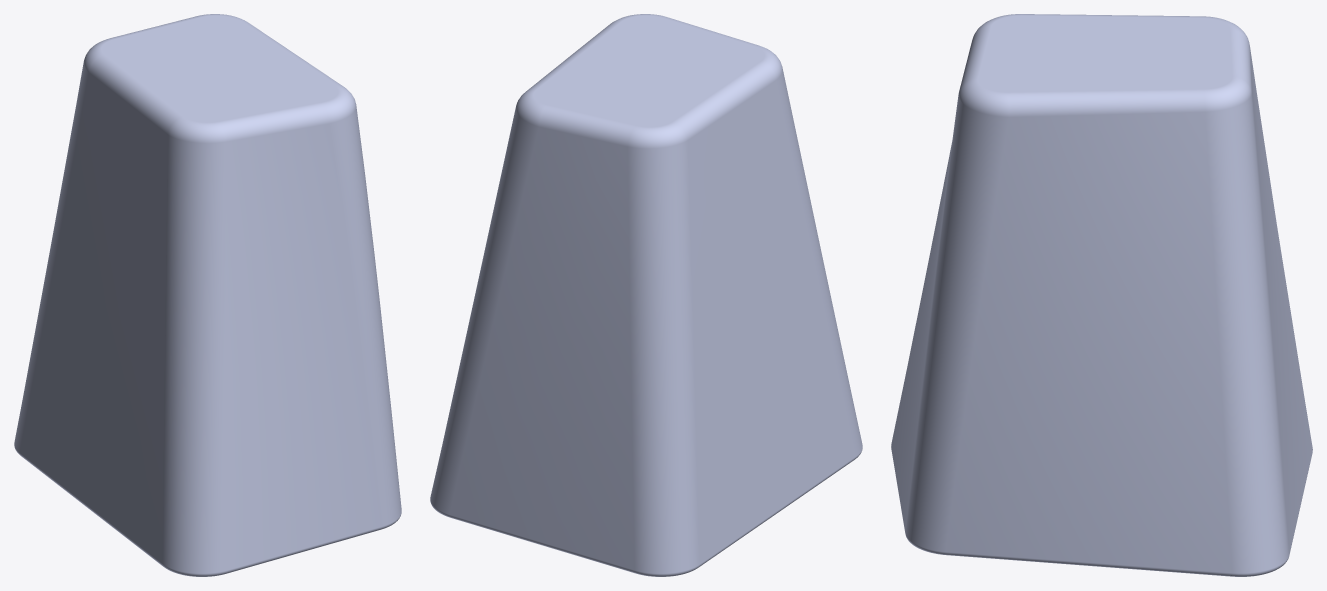
File: sol.fbx
3 views of the same model, side by side, from view 1: azimuth 30°, elevation 25°; view 2: azimuth 150°, elevation 25°; view 3: azimuth 270°, elevation 25° (orthographic). The views are drawn at different scales.
Visible parts, largest first — view 1: Body_1; view 2: Body_1; view 3: Body_1.
Boxes of the visible parts, <box> form: Body_1: <box>14,14,401,576</box>; Body_1: <box>430,14,862,576</box>; Body_1: <box>891,14,1312,576</box>.
Size of the model in its own units: 0.3565 by 0.4291 by 0.5.
